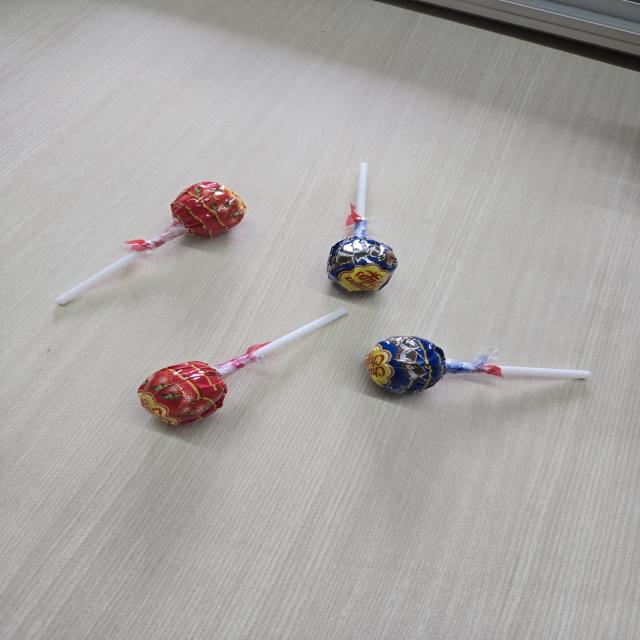lollipop: (134, 303, 353, 434), (51, 176, 249, 314), (364, 332, 591, 405), (325, 157, 401, 302)
